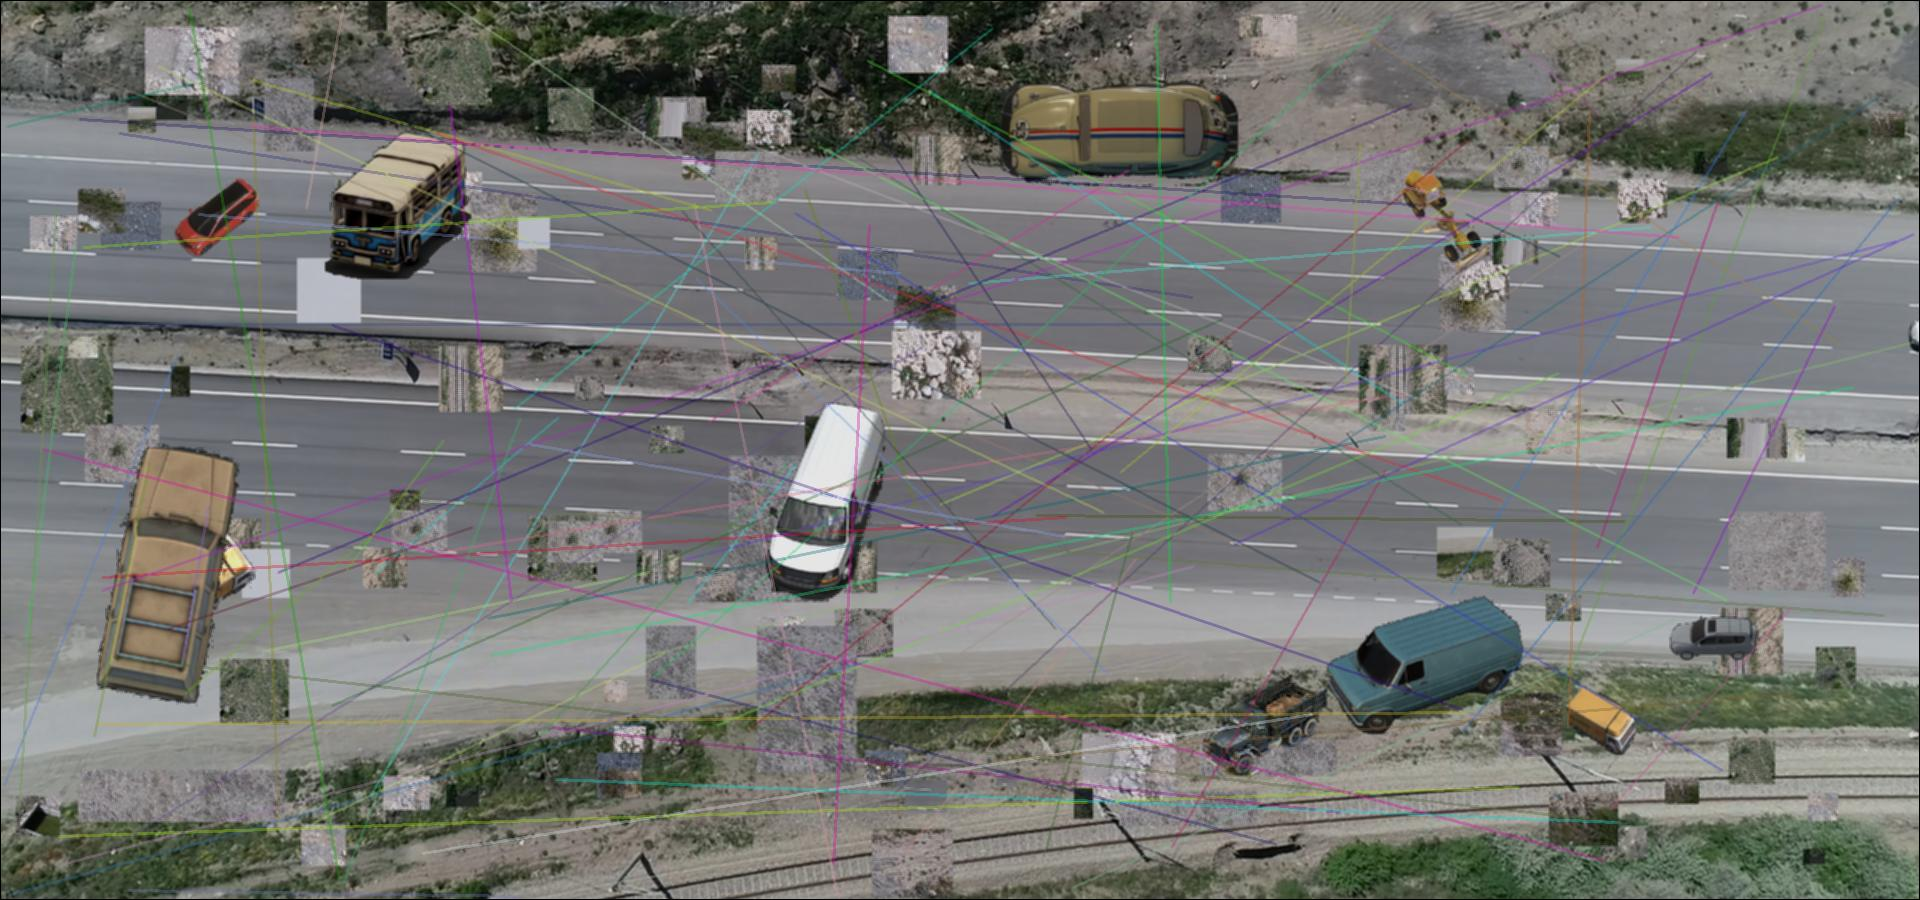arac: (97, 440, 239, 715), (1327, 591, 1524, 735), (1000, 80, 1238, 186), (767, 398, 887, 600), (324, 131, 471, 279), (1202, 672, 1329, 776), (151, 527, 258, 624), (1398, 168, 1495, 276), (163, 179, 260, 257), (1565, 683, 1636, 756), (1668, 616, 1763, 662)
